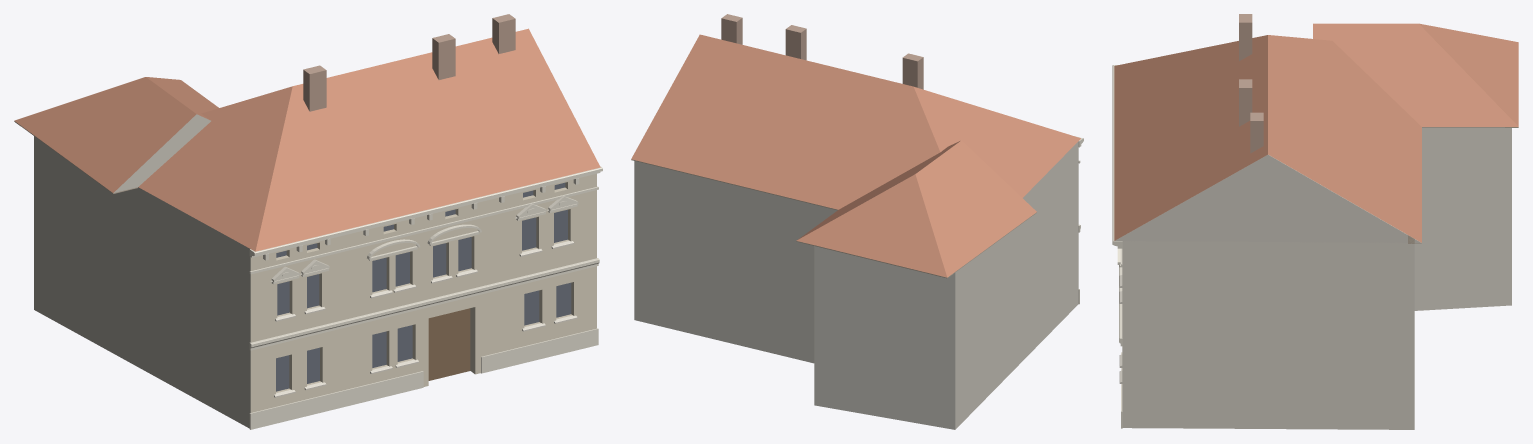
3 renders of one model, left to right at view 1: azimuth 30°, elevation 25°; view 2: azimuth 150°, elevation 25°; view 3: azimuth 270°, elevation 25°, orthographic. The views are drawn at different scales.
Visible parts, largest first — view 1: CP_772_Masonry, CP_772_Roof, CP_772_WingRoof_Rear, CP_772_Cornice_plinth_0, CP_772_Cornice_string_0, CP_772_Cornice_main_0, CP_772_Cornice_plinth_1, CP_772_Cornice_frieze_0, CP_772_AtticClosure, CP_772_Chimney_0, CP_772_Chimney_1, CP_772_Chimney_2; view 2: CP_772_Masonry, CP_772_Roof, CP_772_WingRoof_Rear, CP_772_Chimney_0, CP_772_Chimney_1, CP_772_Chimney_2; view 3: CP_772_Masonry, CP_772_Roof, CP_772_WingRoof_Rear, CP_772_Gable_R_gable, CP_772_Chimney_0, CP_772_Chimney_1, CP_772_Cornice_main_0, CP_772_Chimney_2.
Boxes of the visible parts, x1,y1,x2,y2 form: CP_772_Masonry: (34, 136, 596, 428); CP_772_Roof: (138, 28, 600, 251); CP_772_WingRoof_Rear: (14, 77, 218, 192); CP_772_Cornice_plinth_0: (249, 371, 423, 429); CP_772_Cornice_string_0: (249, 258, 599, 350); CP_772_Cornice_main_0: (249, 166, 602, 257); CP_772_Cornice_plinth_1: (481, 328, 598, 373); CP_772_Cornice_frieze_0: (249, 186, 598, 274); CP_772_AtticClosure: (138, 115, 209, 186); CP_772_Chimney_0: (303, 65, 326, 111); CP_772_Chimney_1: (432, 34, 455, 79); CP_772_Chimney_2: (492, 14, 515, 53); CP_772_Masonry: (634, 141, 1078, 429); CP_772_Roof: (631, 34, 1080, 209); CP_772_WingRoof_Rear: (796, 140, 1036, 277); CP_772_Chimney_0: (902, 53, 923, 89); CP_772_Chimney_1: (785, 25, 806, 60); CP_772_Chimney_2: (721, 14, 742, 44); CP_772_Masonry: (1122, 127, 1511, 429); CP_772_Roof: (1114, 35, 1421, 242); CP_772_WingRoof_Rear: (1313, 23, 1518, 126); CP_772_Gable_R_gable: (1115, 154, 1421, 243); CP_772_Chimney_0: (1239, 14, 1252, 61); CP_772_Chimney_1: (1239, 79, 1252, 126); CP_772_Cornice_main_0: (1112, 65, 1122, 248); CP_772_Chimney_2: (1250, 112, 1263, 153).
Size of the model in its own units: 21.16 by 14.6 by 18.12.
